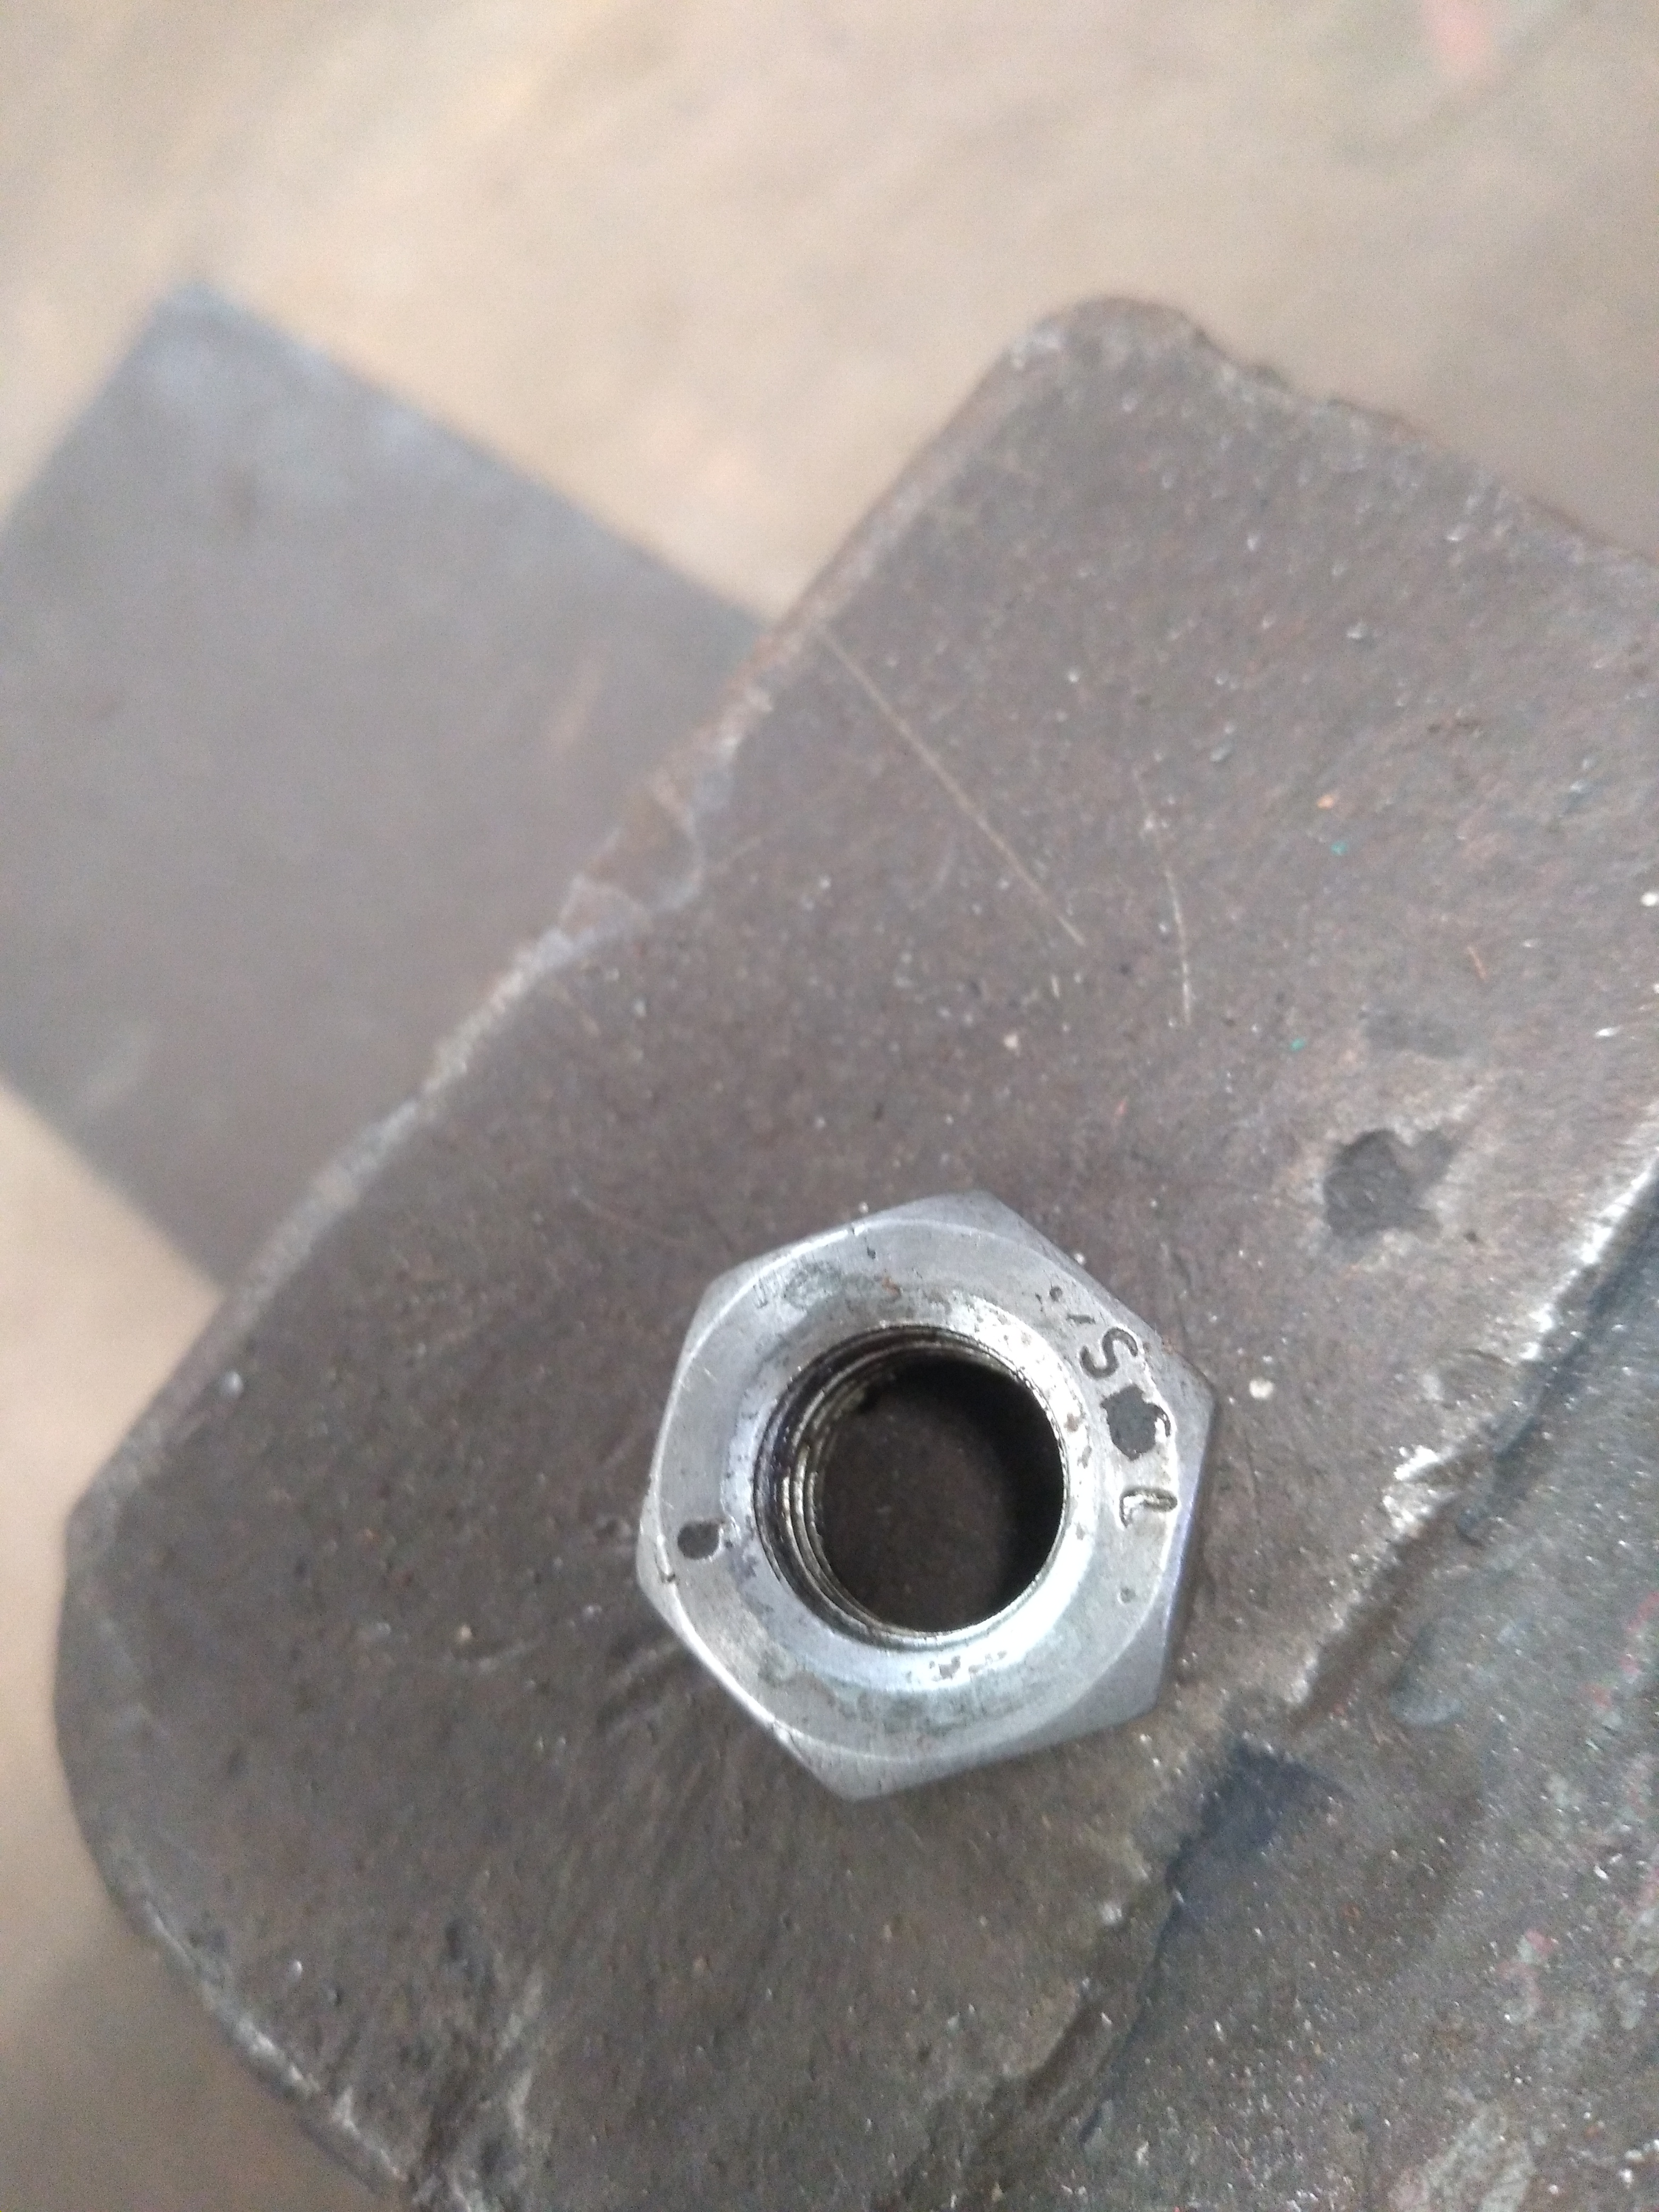Thread: (748, 1268, 1121, 1684)
